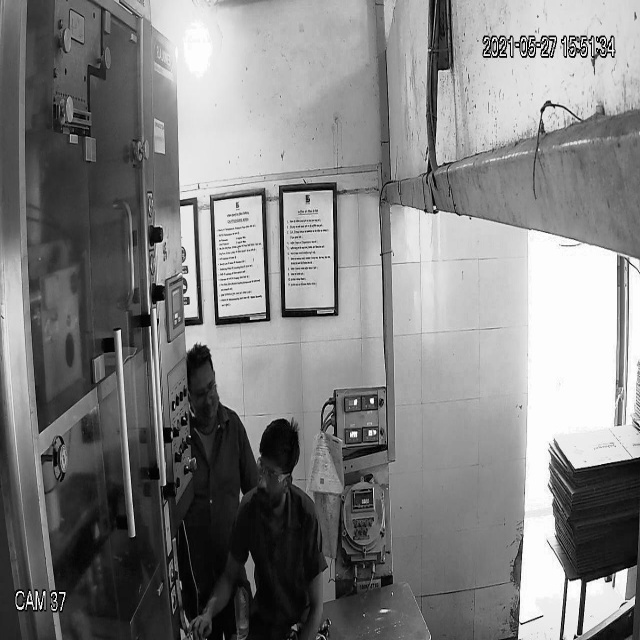Gafas: (251, 453, 296, 492)
